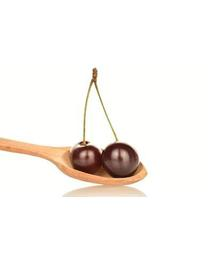cherry: (102, 142, 139, 178), (70, 140, 102, 175)
